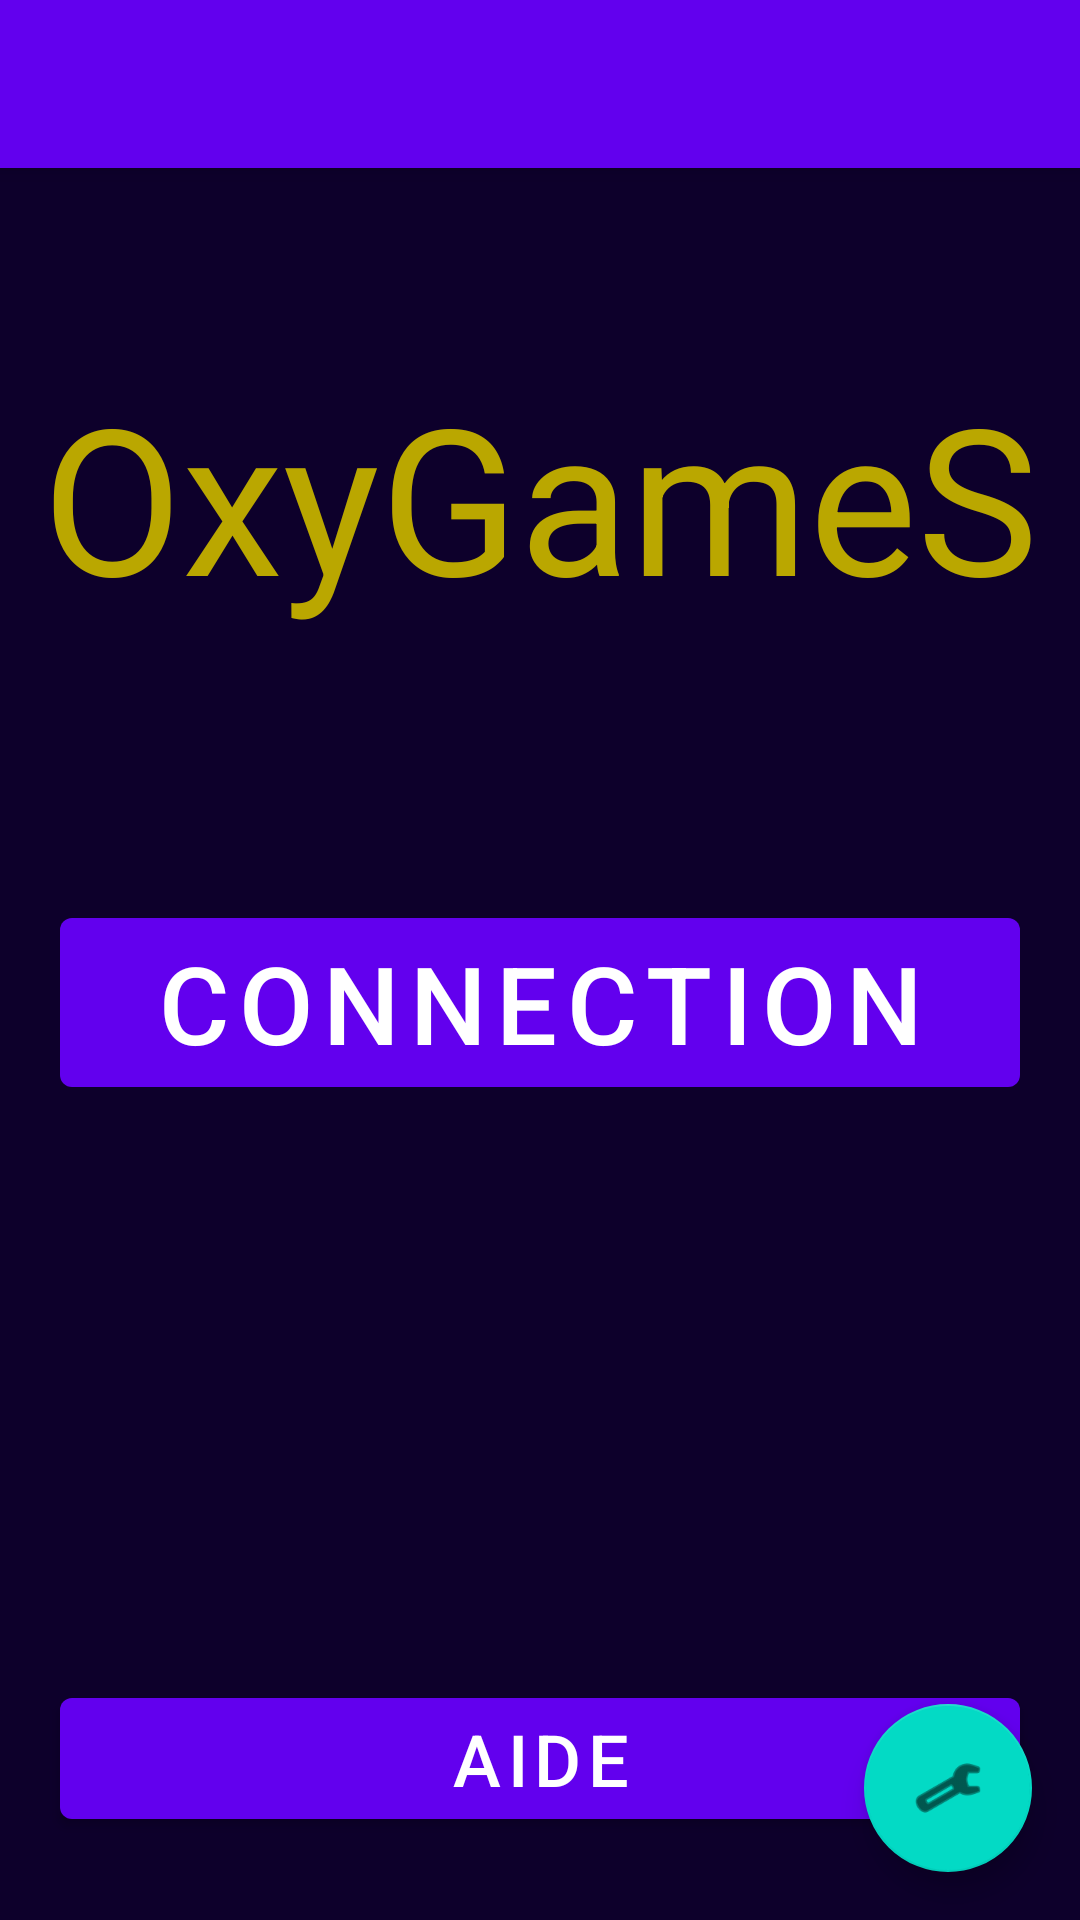

Where to tap for icons on this 1080 × 1920 app screen, as (x=x, y=y):
preferences: (x=948, y=1788)
